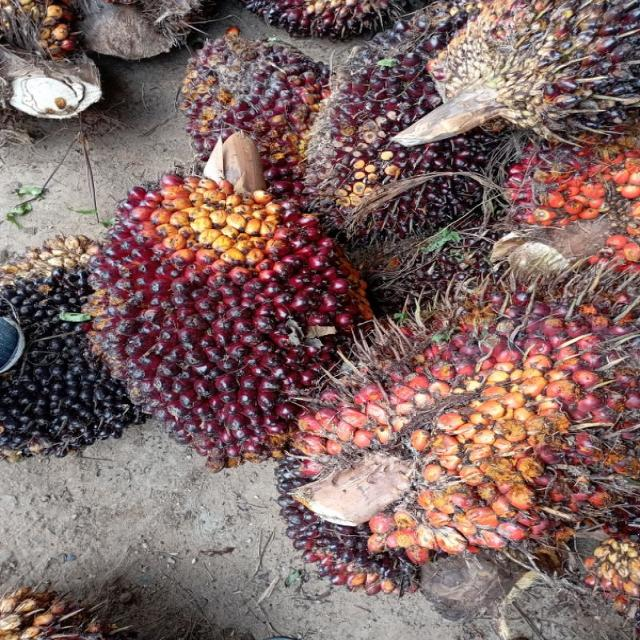fraksi 1: (34, 141, 384, 477)
